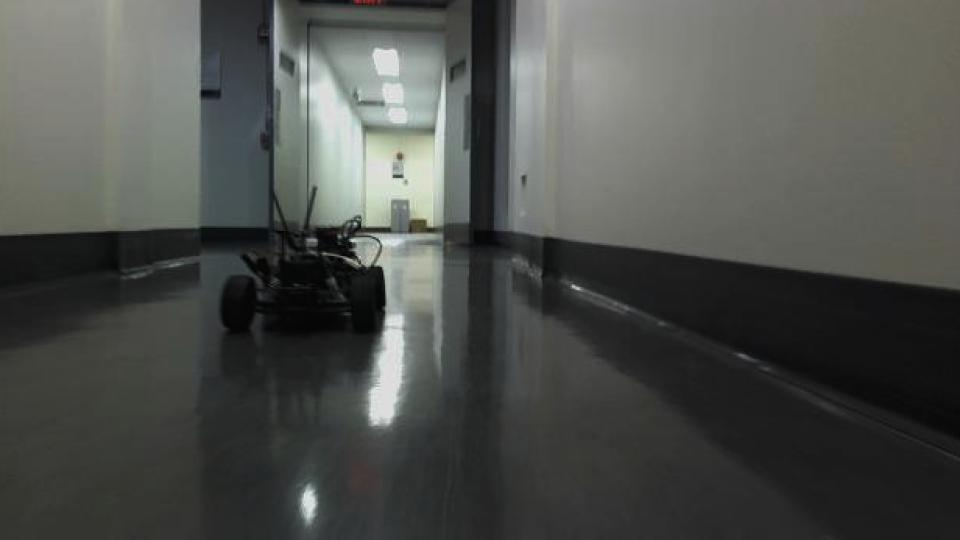car: (215, 183, 388, 337)
